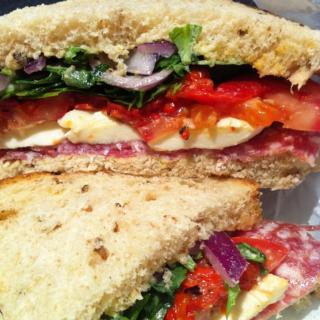tomato: (229, 232, 291, 289), (191, 274, 232, 311), (162, 289, 196, 319)
